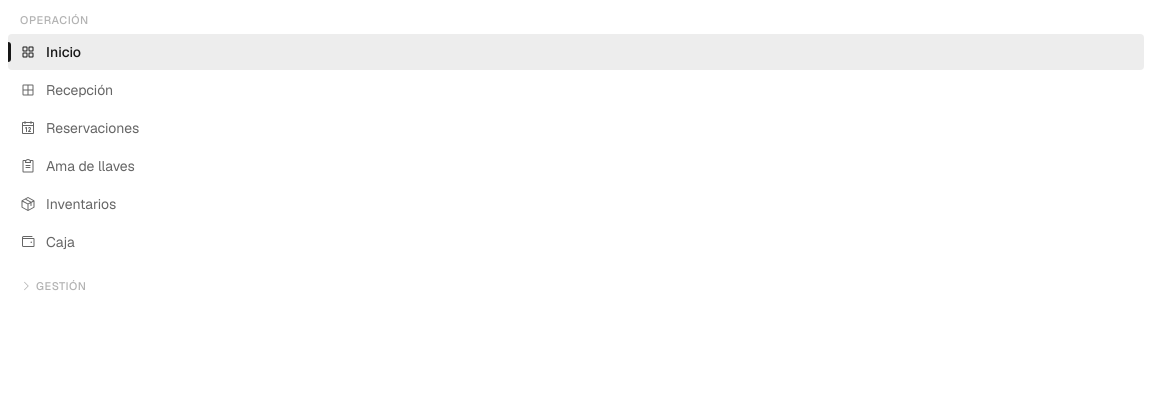
it: barra lateral por rol › a gerencia le muestra Gestión cerrada, y la abre al pulsarla
The image size is (1152, 420).
Expected: the link "Configuración" is not shown
Click the button "Gestión" at (61, 286), box [8, 276, 1144, 300]
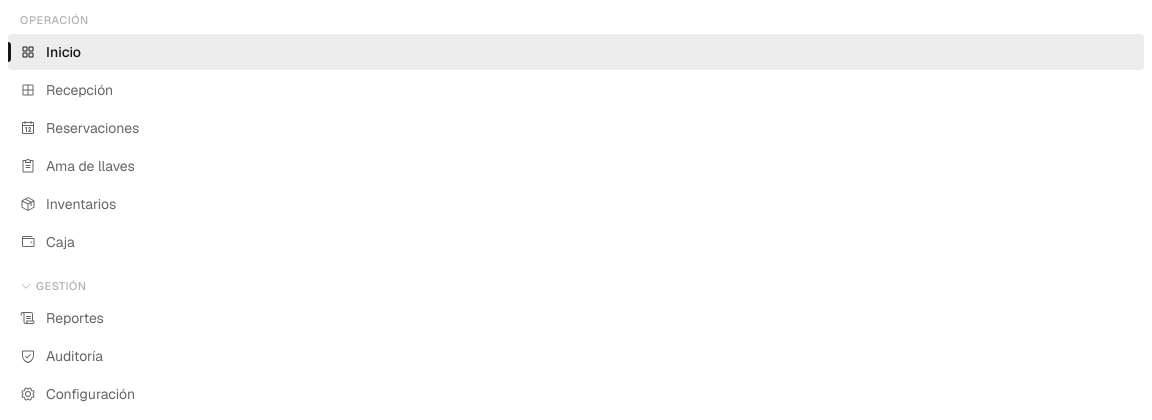
Result: the button "Gestión" is expanded at [8, 276, 1144, 300]
Result: the link "Configuración" is shown at [20, 385, 135, 403]
Result: the link "Reportes" is shown at [20, 309, 104, 327]
